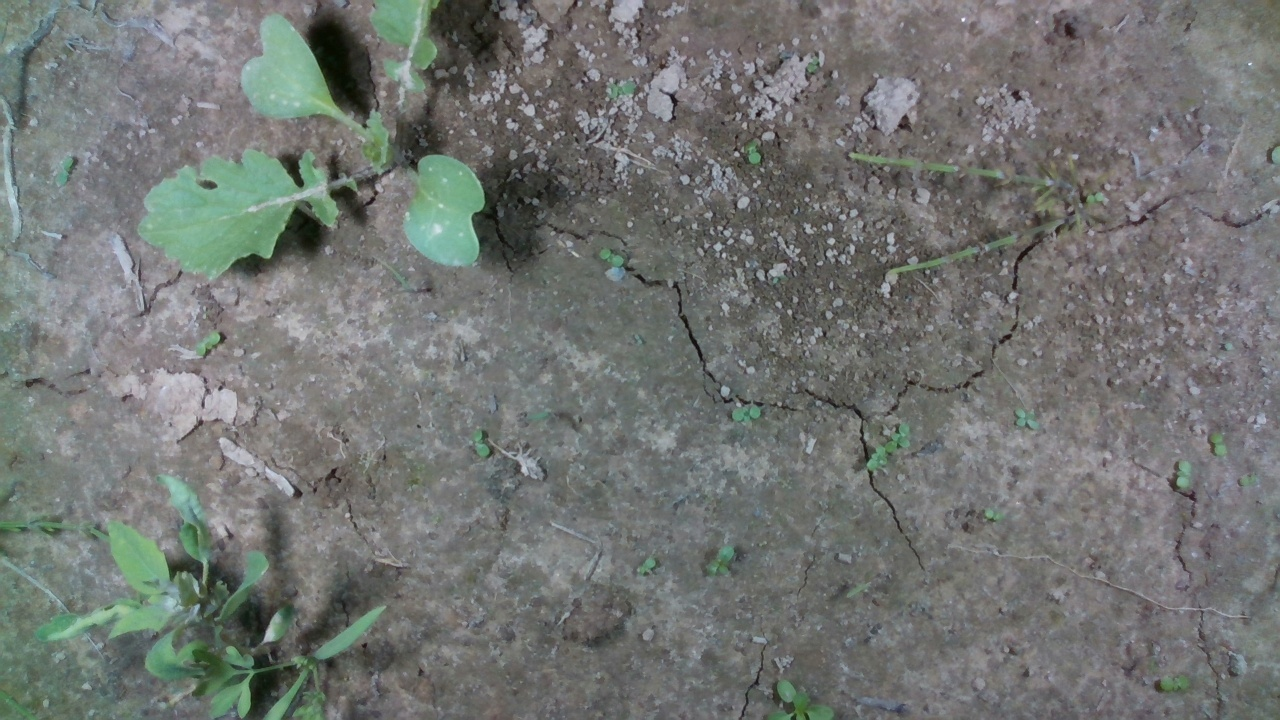weed: (1008, 403, 1049, 444), (467, 428, 502, 461), (727, 398, 766, 424), (597, 247, 633, 272), (1169, 455, 1194, 491), (1206, 432, 1232, 466), (744, 138, 765, 169), (635, 561, 657, 583)
